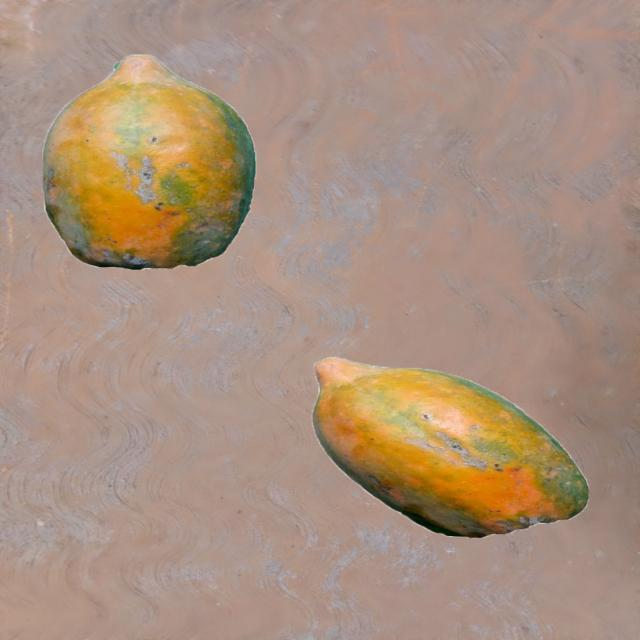Pepaya rippen: (290, 348, 606, 547), (28, 47, 260, 274)
